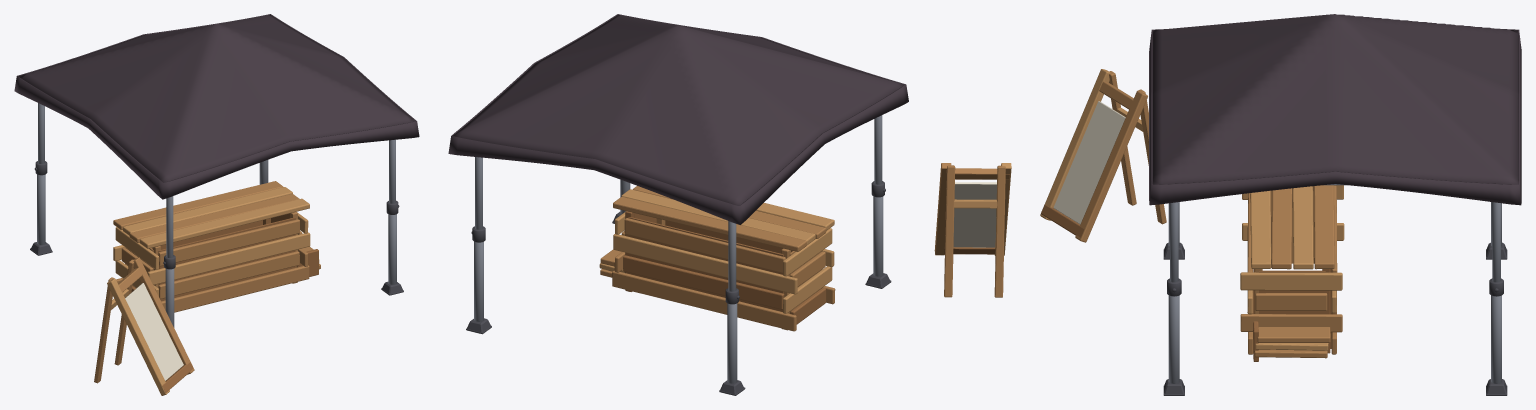
File: gazebo_generico 1.fbx
3 renders of one model, left to right at view 1: azimuth 30°, elevation 25°; view 2: azimuth 150°, elevation 25°; view 3: azimuth 270°, elevation 25°, orthographic. The views are drawn at different scales.
Parts seen in each view (by area): view 1: Canopy, CanopyValance, Counter_FB_2_-1, Sign_Panel, Counter_FB_0_-1, Counter_FB_1_-1, Counter_FB_3_-1, CounterTop_0, CounterTop_3, CounterTop_2, CounterTop_1, CounterInner_FB_-1 (+12 smaller); view 2: Canopy, CanopyValance, Counter_FB_2_1, Counter_FB_0_1, Counter_FB_3_1, Counter_FB_1_1, CounterTop_3, Sign_Panel, CounterInner_FB_1, CounterTop_2, Sign_Leg_1, Sign_Leg_-1 (+15 smaller); view 3: Canopy, CanopyValance, Sign_Panel, Sign_Stile_-1, Counter_LR_3_1, CounterTop_3, CounterTop_2, CounterTop_1, CounterTop_0, Sign_Stile_1, Counter_LR_1_1, Counter_LR_2_1 (+12 smaller).
Part boxes in pixels (x1,y1,x2,y2): Canopy: [18, 14, 415, 182]; CanopyValance: [14, 14, 419, 199]; Counter_FB_2_-1: [147, 232, 310, 284]; Sign_Panel: [125, 283, 183, 380]; Counter_FB_0_-1: [161, 265, 309, 312]; Counter_FB_1_-1: [158, 251, 299, 299]; Counter_FB_3_-1: [158, 219, 299, 266]; CounterTop_0: [140, 198, 309, 248]; CounterTop_3: [113, 181, 283, 229]; CounterTop_2: [123, 187, 292, 235]; CounterTop_1: [129, 194, 299, 242]; CounterInner_FB_-1: [158, 217, 295, 301]; Canopy: [453, 14, 904, 205]; CanopyValance: [448, 14, 908, 224]; Counter_FB_2_1: [613, 234, 797, 294]; Counter_FB_0_1: [612, 270, 796, 331]; Counter_FB_3_1: [624, 218, 785, 272]; Counter_FB_1_1: [623, 255, 784, 309]; CounterTop_3: [613, 197, 806, 251]; Sign_Panel: [953, 182, 996, 247]; CounterInner_FB_1: [628, 217, 783, 311]; CounterTop_2: [621, 189, 815, 244]; Sign_Leg_1: [994, 165, 1005, 297]; Sign_Leg_-1: [944, 165, 955, 297]; Canopy: [1152, 14, 1517, 184]; CanopyValance: [1149, 29, 1521, 205]; Sign_Panel: [1053, 101, 1125, 224]; Sign_Stile_-1: [1075, 91, 1147, 242]; Counter_LR_3_1: [1240, 272, 1342, 290]; CounterTop_3: [1313, 185, 1334, 269]; CounterTop_2: [1292, 186, 1313, 269]; CounterTop_1: [1271, 188, 1292, 269]; CounterTop_0: [1250, 190, 1271, 268]; Sign_Stile_1: [1040, 69, 1109, 220]; Counter_LR_1_1: [1240, 314, 1342, 332]; Counter_LR_2_1: [1255, 293, 1327, 310].
Size of the model in its own units: 448 by 321 by 448.
